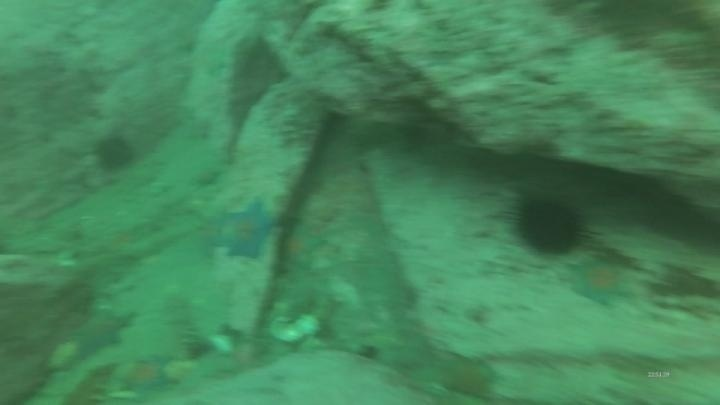echinus: (506, 190, 592, 259), (91, 131, 138, 175)
holothurian: (61, 360, 120, 405)
starfish: (563, 254, 636, 311), (68, 303, 137, 360), (230, 195, 282, 265), (112, 353, 179, 399), (437, 353, 499, 401), (279, 221, 328, 273), (195, 206, 232, 258)
